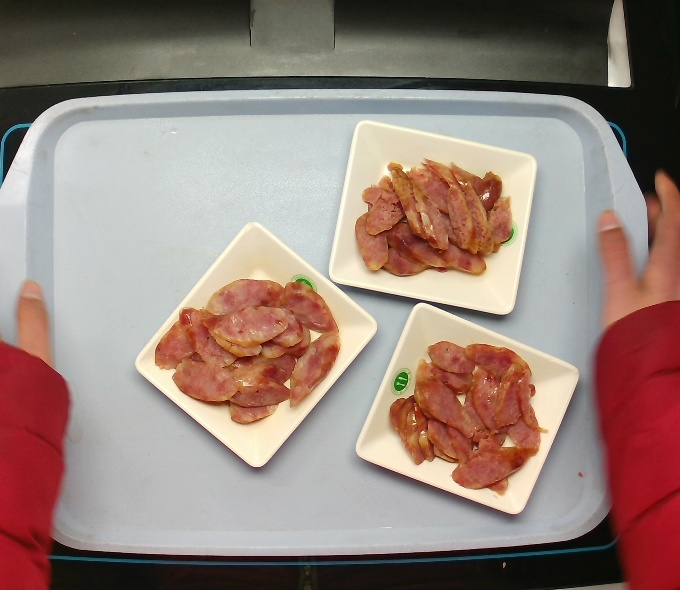wcq-QiePianXiangChang: (154, 260, 356, 438), (379, 326, 556, 504), (343, 152, 518, 298)
